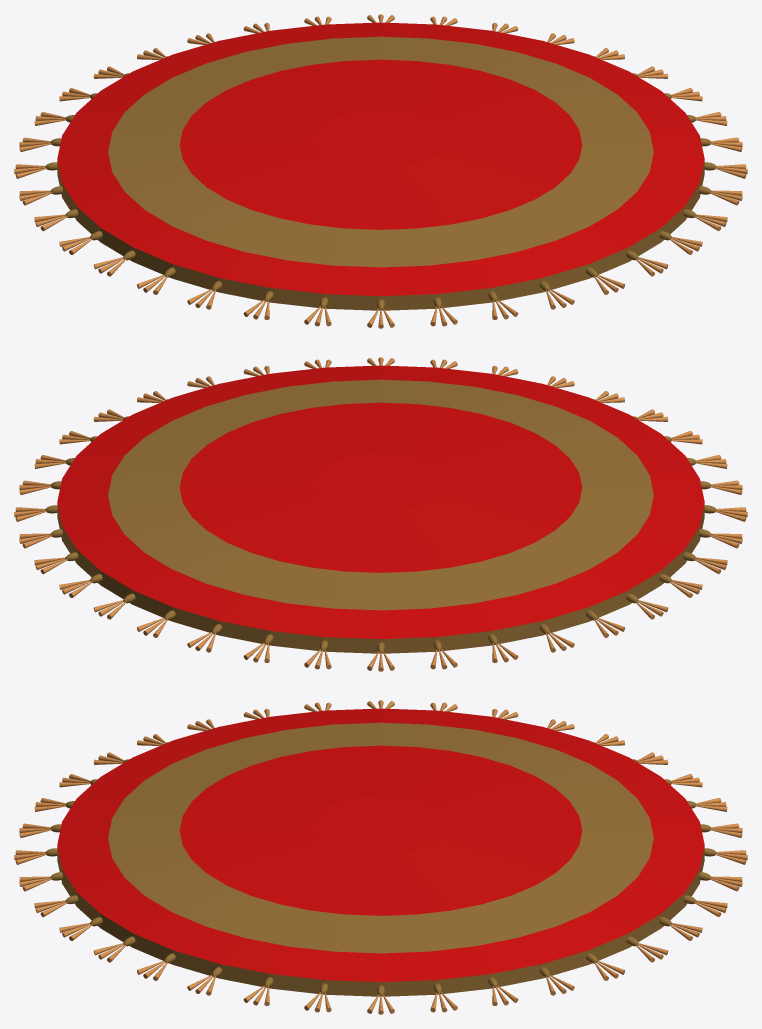
The model's file is YuvarlakHalı.fbx.
3 views of the same model, one above another, from view 1: azimuth 30°, elevation 25°; view 2: azimuth 150°, elevation 25°; view 3: azimuth 270°, elevation 25° (orthographic).
Parts seen in each view (by area): view 1: Cylinder; view 2: Cylinder; view 3: Cylinder.
Boxes of the visible parts, x1=… form: Cylinder: x1=14, y1=14, x2=747, y2=328; Cylinder: x1=14, y1=357, x2=747, y2=671; Cylinder: x1=14, y1=700, x2=747, y2=1014.
Bounding box in the file's own units: 907 × 48.1 × 907.
